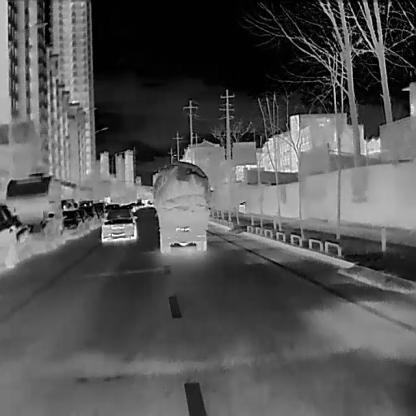car: (0, 200, 27, 268), (100, 206, 136, 242), (61, 209, 84, 238), (78, 204, 100, 228), (238, 199, 246, 212)
truck: (150, 158, 211, 254), (4, 171, 62, 252)
